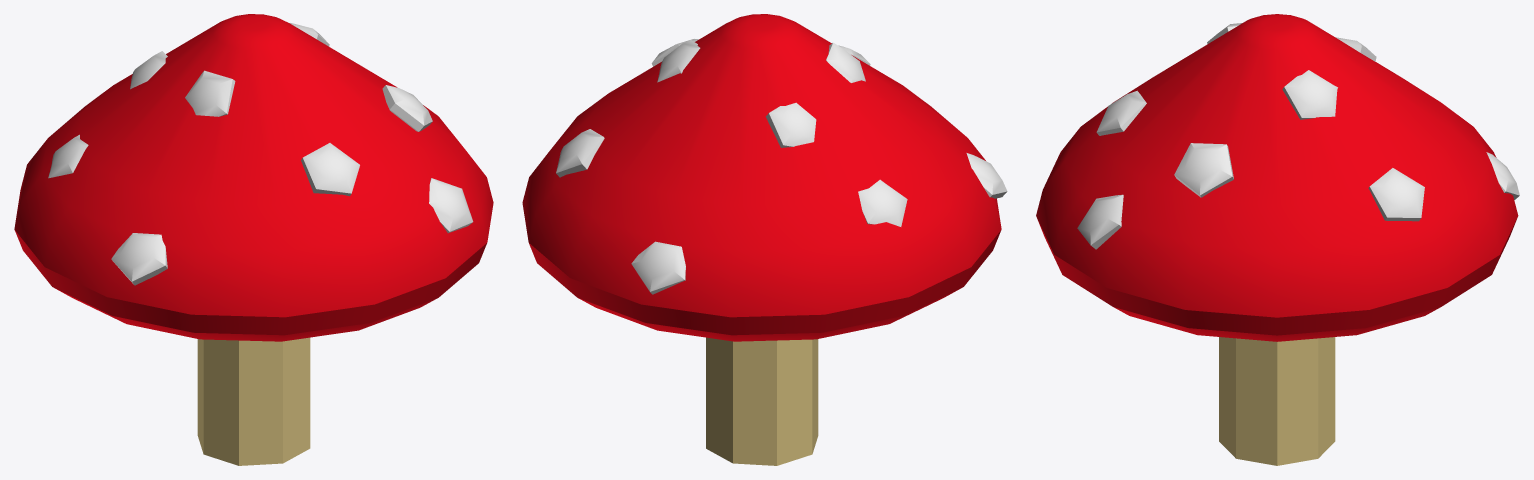
The model's file is SpottedMushroomSmooth.fbx.
3 renders of one model, left to right at view 1: azimuth 30°, elevation 25°; view 2: azimuth 150°, elevation 25°; view 3: azimuth 270°, elevation 25°, orthographic.
Parts seen in each view (by area): view 1: Cylinder.001, Cylinder; view 2: Cylinder.001, Cylinder; view 3: Cylinder.001, Cylinder.
Boxes of the visible parts, x1,y1,x2,y2 form: Cylinder.001: (14, 14, 493, 341); Cylinder: (197, 337, 310, 465); Cylinder.001: (522, 14, 1007, 341); Cylinder: (706, 337, 818, 465); Cylinder.001: (1036, 14, 1519, 341); Cylinder: (1219, 337, 1335, 465).
Bounding box in the file's own units: 37.87 × 36.17 × 38.
